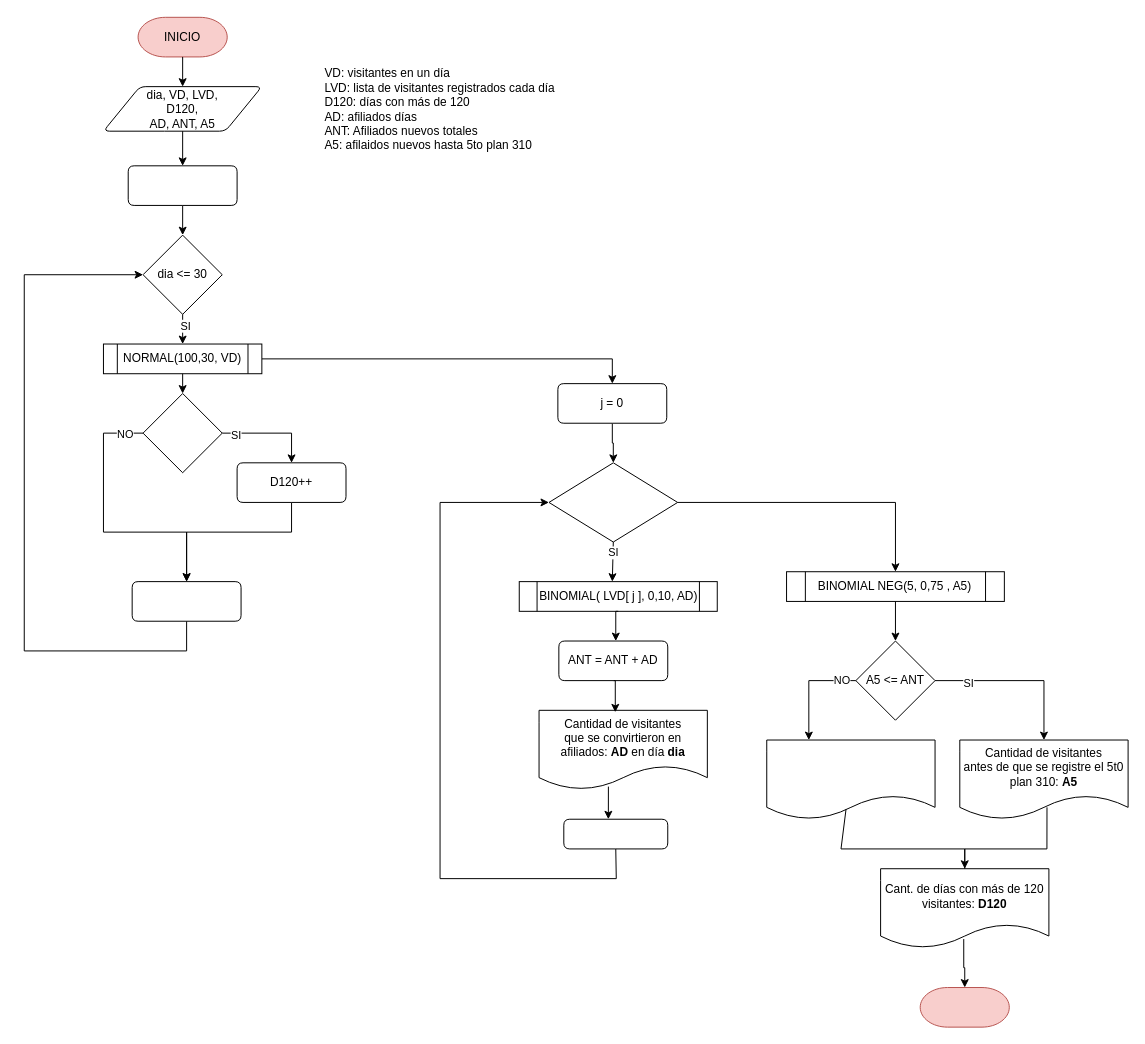
Some shapes in this 1145 by 1044 pixel diagram are drawn without their labels. The centre of each missing label's shape, as x and y in pixels:
"Cantidad de visitantes antes de que se registre el 5t0 plan 310: ANT" belongs at point (850, 779).
"dia=1, ANT=0" belongs at point (182, 185).
"FIN" belongs at point (964, 1007).
"j < LVD(longitud)" belongs at point (613, 502).
"j++" belongs at point (615, 833).
"LVD(VD) dia++" belongs at point (186, 601).
"VD > 120" belongs at point (182, 433).
